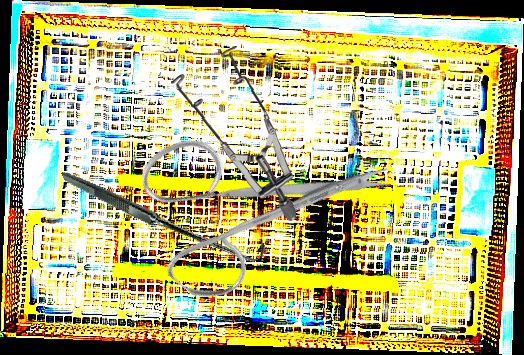Hook Surgical: (61, 106, 269, 321)
Iris Scissors: (99, 47, 400, 351)
Speculum: (166, 43, 302, 223)
